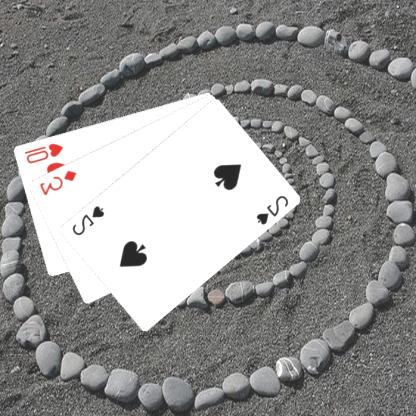10H: (23, 140, 66, 165)
2S: (254, 192, 292, 226), (70, 203, 107, 237)
3D: (38, 167, 80, 197)
